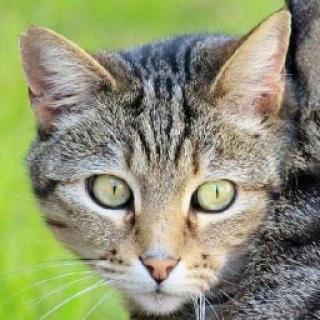cat: (17, 15, 300, 319)
nose: (137, 226, 176, 288)
